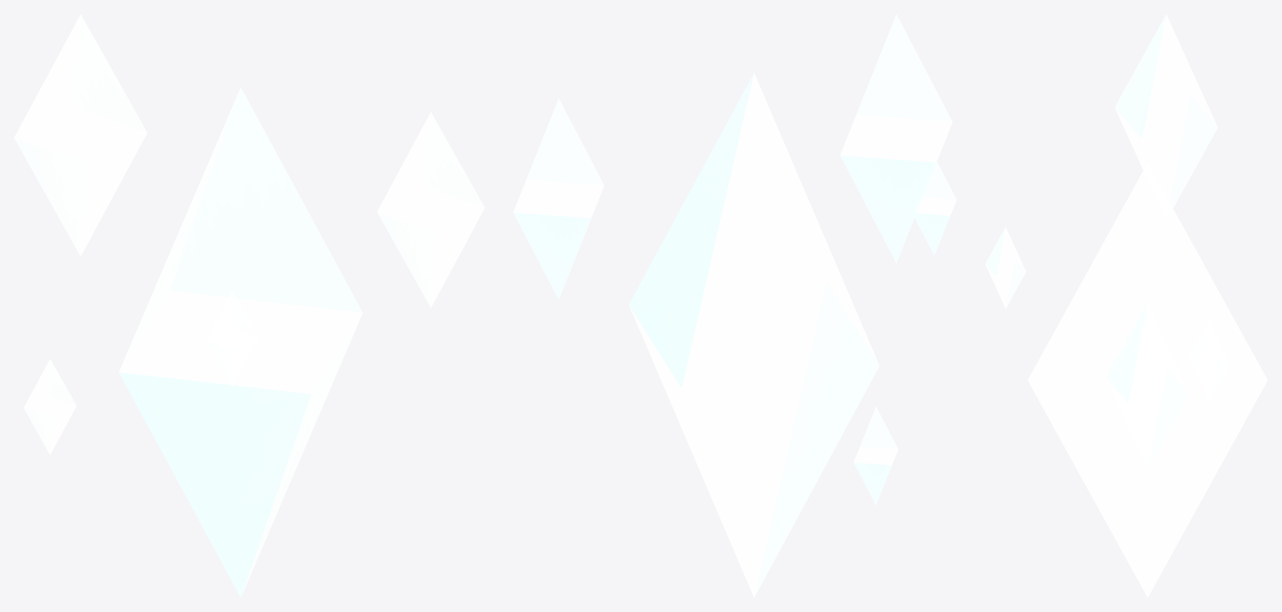
3 renders of one model, left to right at view 1: azimuth 30°, elevation 25°; view 2: azimuth 150°, elevation 25°; view 3: azimuth 270°, elevation 25°, orthographic. The views are drawn at different scales.
Visible parts, largest first — view 1: Cone007; view 2: Cone007; view 3: Cone007.
Part boxes in pixels (x1,y1,x2,y2): Cone007: (14, 14, 484, 597); Cone007: (513, 14, 956, 597); Cone007: (985, 14, 1267, 597).
Size of the model in its own units: 356 by 479 by 235.
Materials: 1 (1 with a texture image).
